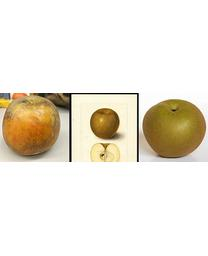apple: (3, 95, 63, 157), (143, 99, 206, 157), (90, 108, 119, 137), (89, 143, 119, 162)
